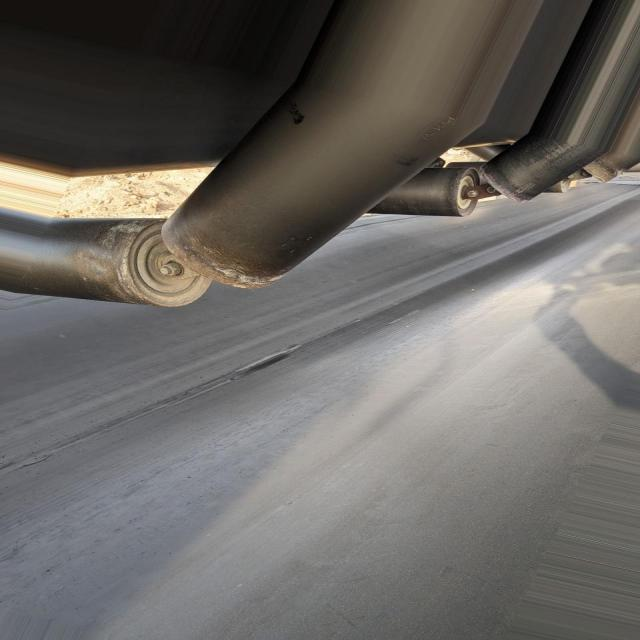Roller: (160, 98, 469, 290), (13, 218, 211, 308), (478, 138, 591, 202), (367, 168, 482, 218)
impact damage: (226, 351, 290, 381)
